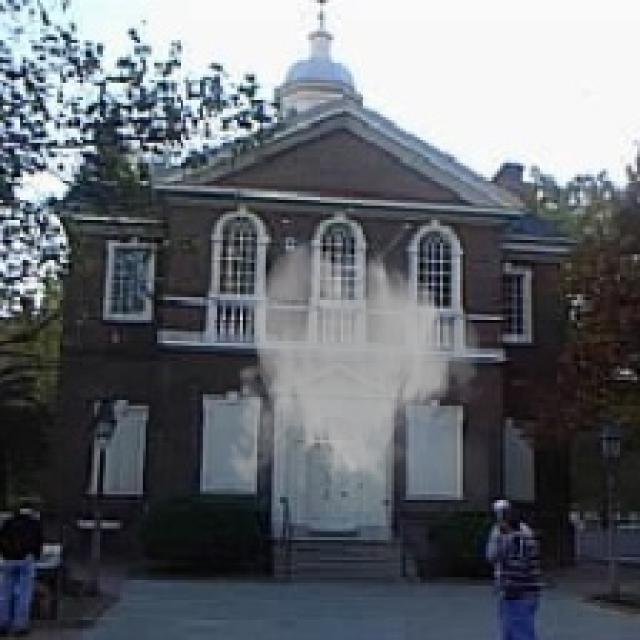smoke: (220, 237, 489, 512)
